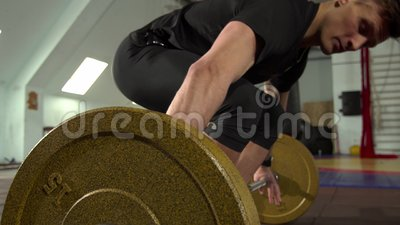barbell: (2, 106, 261, 225)
